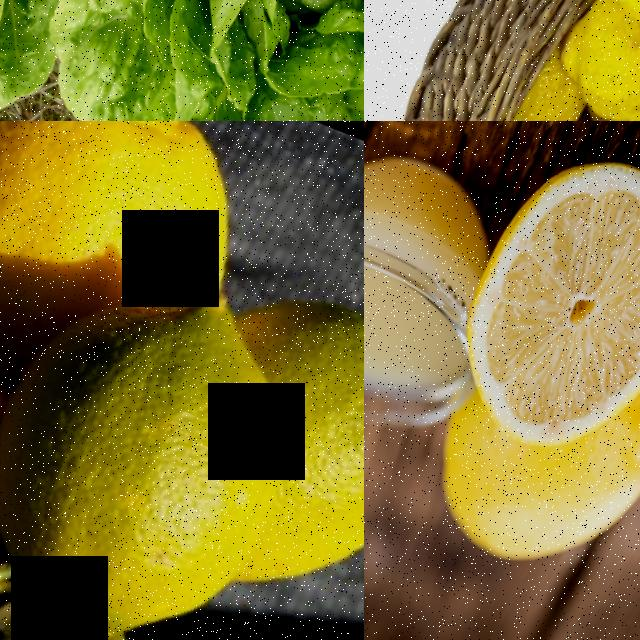lemon: (0, 270, 316, 640), (0, 121, 293, 333), (452, 121, 640, 431), (252, 290, 364, 552), (566, 0, 640, 121)
lettuce: (17, 0, 364, 121), (0, 0, 217, 121)
